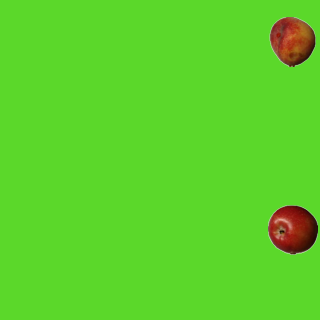Apple Braeburn: (267, 204, 317, 254)
Peach: (267, 16, 317, 66)
